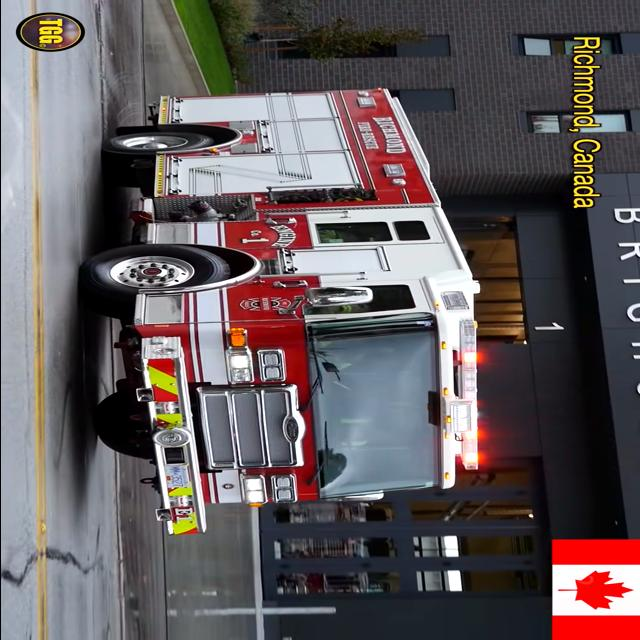emergency-vehicles: (68, 70, 494, 548)
